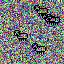sheep: (13, 30, 28, 41), (33, 43, 46, 55), (34, 5, 49, 15)
